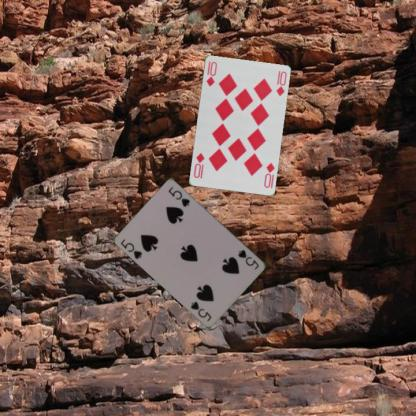10d: (261, 159, 276, 189), (203, 58, 218, 87)
5s: (118, 236, 143, 261), (236, 247, 260, 271)
